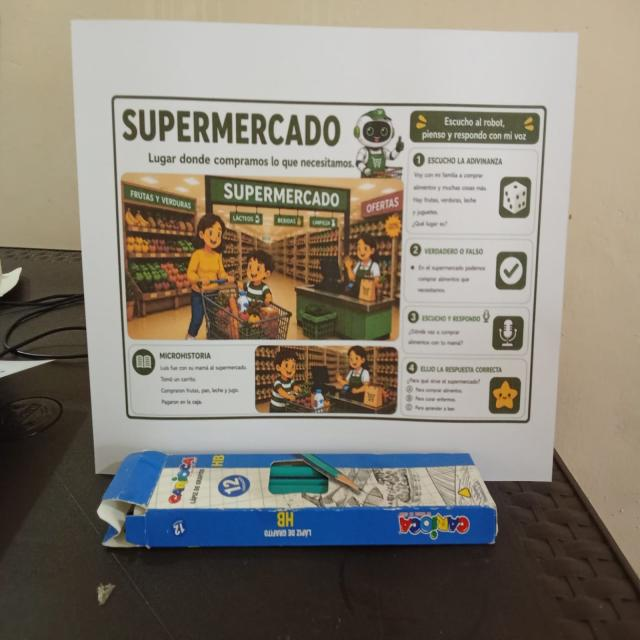supermercado: (108, 90, 551, 430)
